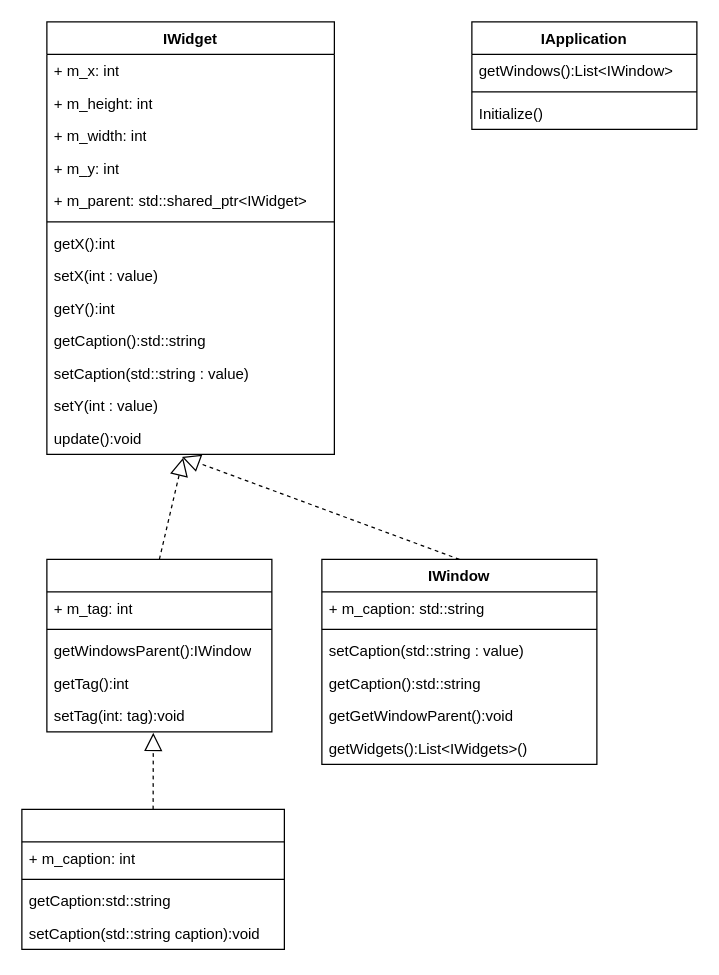
Some shapes in this 719 by 975 pixel diagram are drawn without their labels. The box of each missing label's shape, as (x1, y1, x2, y2) in pixels:
IButton: (21, 808, 284, 949)
IComponent: (46, 558, 272, 732)
